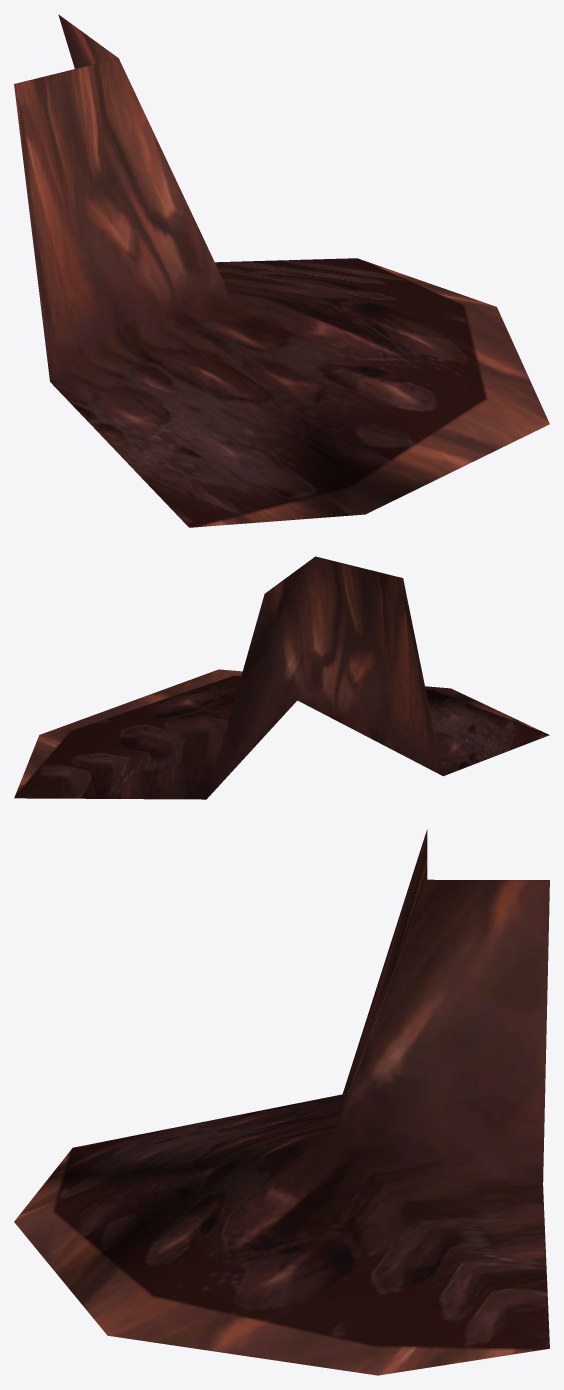
File: lava_trim_convex_01.fbx
The picture shows the model from 3 angles, top to bottom: view 1: azimuth 30°, elevation 25°; view 2: azimuth 150°, elevation 25°; view 3: azimuth 270°, elevation 25°; orthographic projection. The views are drawn at different scales.
Parts seen in each view (by area): view 1: lava_tileset/trim_alpha; view 2: lava_tileset/trim_alpha; view 3: lava_tileset/trim_alpha.
Part boxes in pixels (x1,y1,x2,y2): lava_tileset/trim_alpha: [14, 14, 549, 527]; lava_tileset/trim_alpha: [14, 556, 549, 799]; lava_tileset/trim_alpha: [14, 829, 549, 1375].
Bounding box in the file's own units: 1.77 × 1.15 × 1.74.
